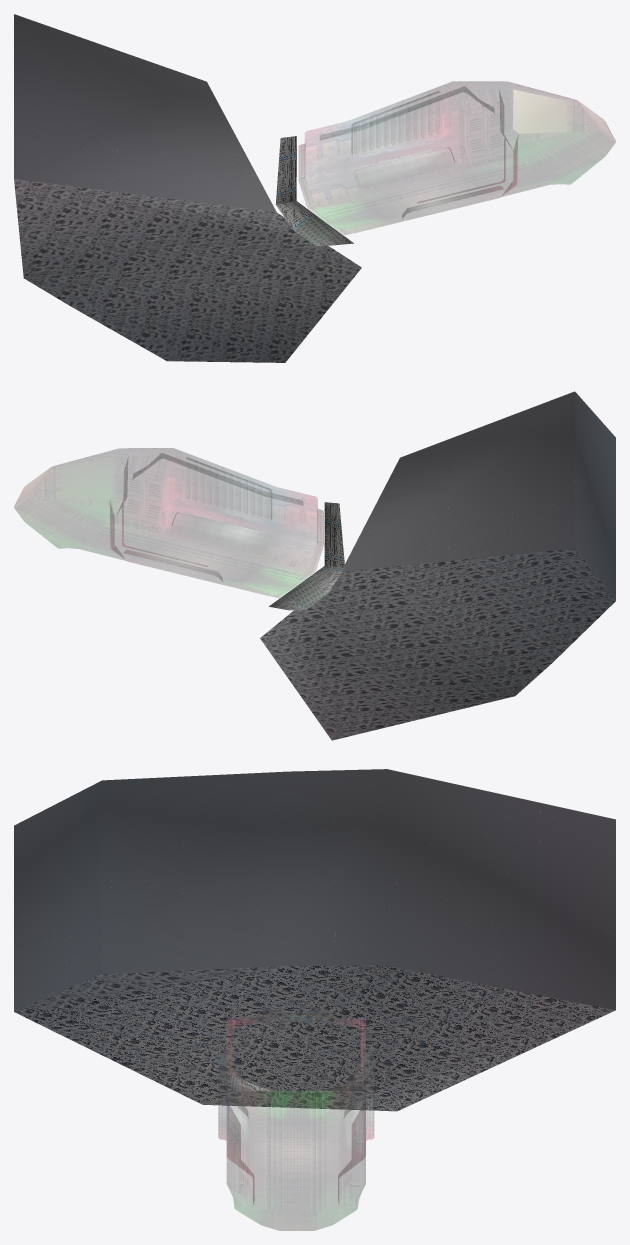
File: start_ship.glb
The picture shows the model from 3 angles, top to bottom: view 1: azimuth 30°, elevation 25°; view 2: azimuth 150°, elevation 25°; view 3: azimuth 270°, elevation 25°; orthographic projection. The views are drawn at different scales.
Parts seen in each view (by area): view 1: Plane.002; view 2: Plane.002; view 3: Plane.002.
Boxes of the visible parts, left/top/right/bottom form: Plane.002: left=14, top=14, right=615, bottom=362; Plane.002: left=14, top=391, right=615, bottom=740; Plane.002: left=14, top=769, right=615, bottom=1230.
Bounding box in the file's own units: 30.36 × 9.06 × 25.08.
11 materials, 11 textured.
